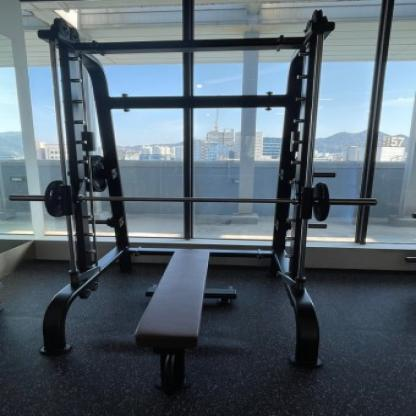smith machine: (36, 10, 340, 393)
